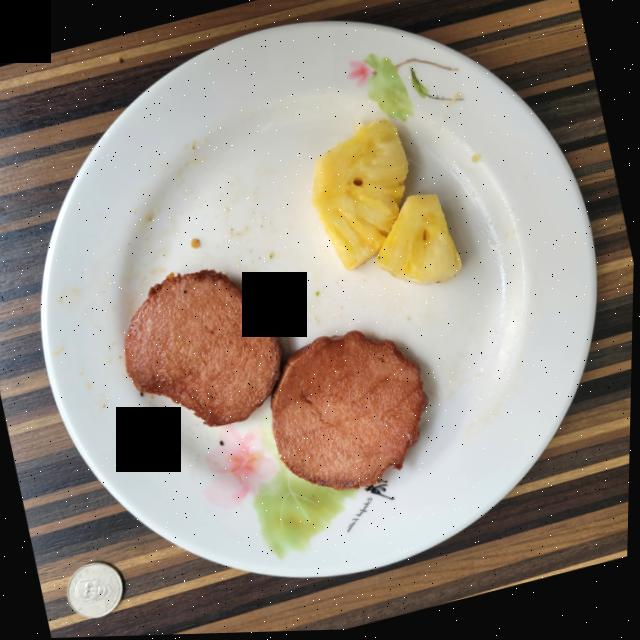Spam: (126, 270, 429, 491)
coin: (69, 561, 125, 618)
pineapple: (312, 120, 463, 286)
